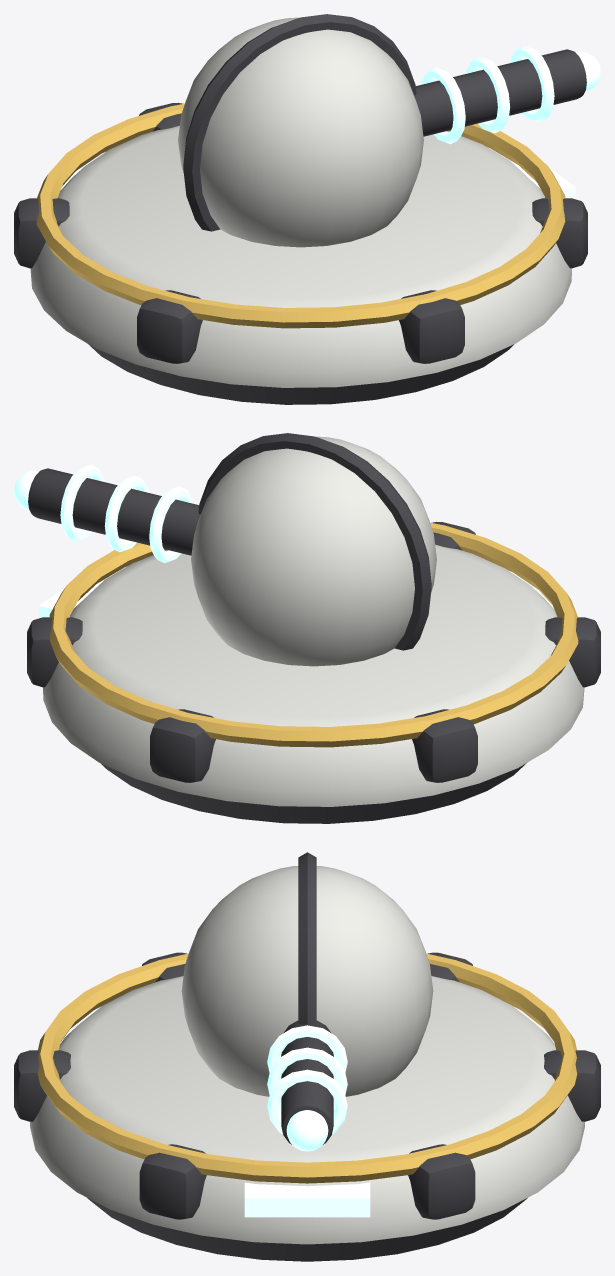
Rendered from rob_tank.glb.
The picture shows the model from 3 angles, top to bottom: view 1: azimuth 30°, elevation 25°; view 2: azimuth 150°, elevation 25°; view 3: azimuth 270°, elevation 25°; orthographic projection. The views are drawn at different scales.
Visible parts, largest first — view 1: rob_tank, turret_m; view 2: rob_tank, turret_m; view 3: rob_tank, turret_m.
Boxes of the visible parts, <box> form: rob_tank: <box>14,102,587,404</box>; turret_m: <box>178,14,600,247</box>; rob_tank: <box>27,521,600,823</box>; turret_m: <box>14,433,436,666</box>; rob_tank: <box>14,952,600,1261</box>; turret_m: <box>181,852,433,1151</box>.
Size of the model in its own units: 1.2 by 0.641 by 1.12.
